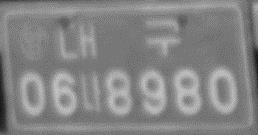0: (207, 67, 240, 115), (19, 69, 49, 118)
6: (50, 70, 77, 117)
8: (104, 69, 133, 116), (173, 68, 202, 115)
9: (138, 70, 168, 116)
나: (79, 69, 103, 113)
대구_D: (57, 18, 182, 61)
영: (18, 20, 51, 62)
